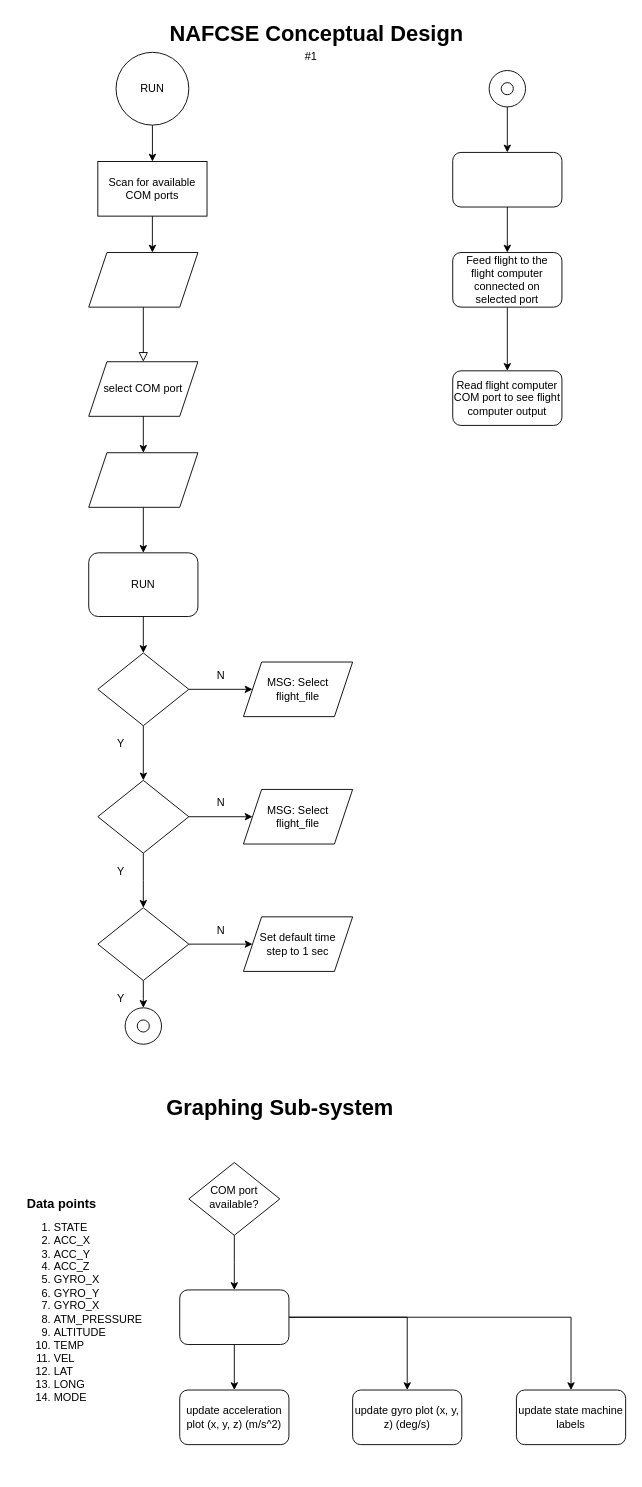
Image size: 642x1487. Some labels were removed from this diagram. The shapes that lost their labels are listed below. From the top down, each one's centre as x and y in pixels, then its label:
the point at 507,179: open COM port
the point at 143,279: Select the flight trajectory csv file
the point at 143,479: select time step
the point at 143,689: flight_file selected?
the point at 143,816: COM Port Selected
the point at 143,944: Time step selected
the point at 234,1317: split UART string
